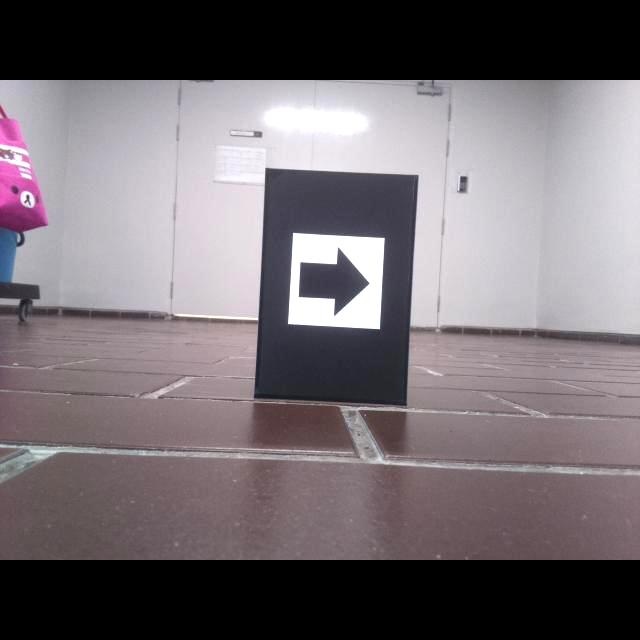RIGHT: (298, 246, 370, 318)
